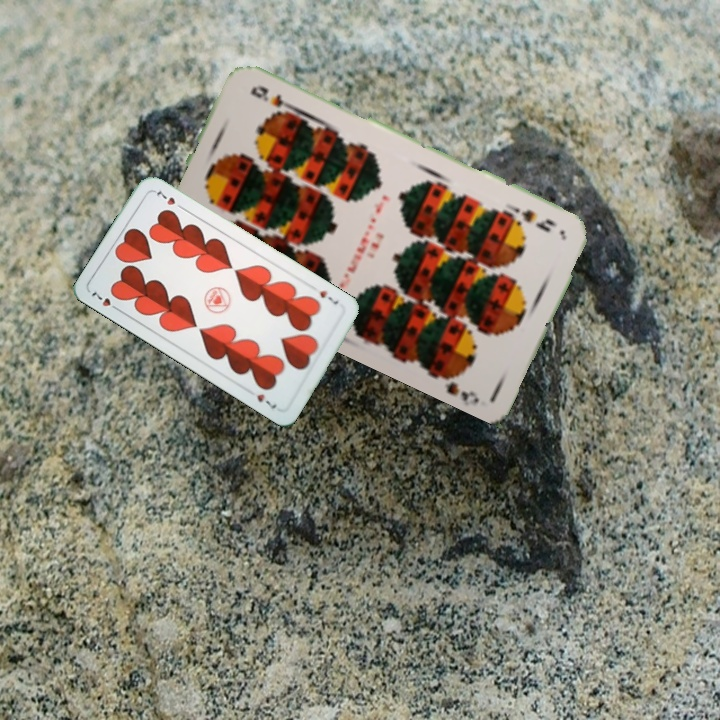H7: (87, 287, 123, 314), (315, 286, 341, 307)
S9: (510, 204, 560, 235)
